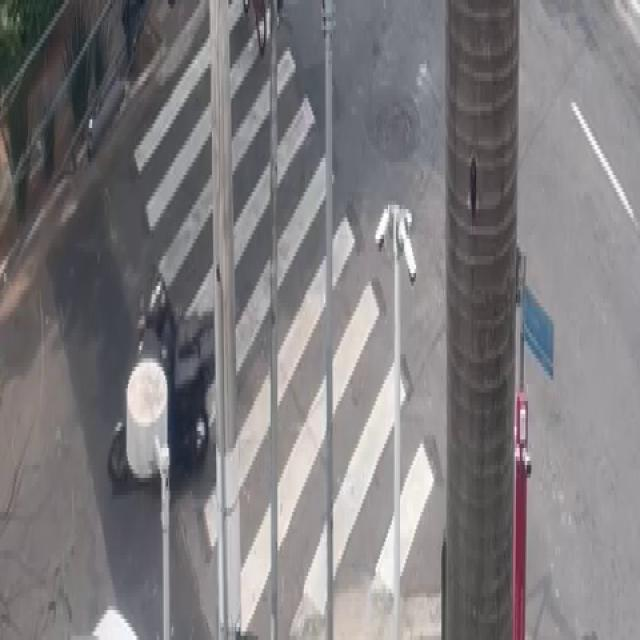motorbike: (115, 286, 214, 498)
